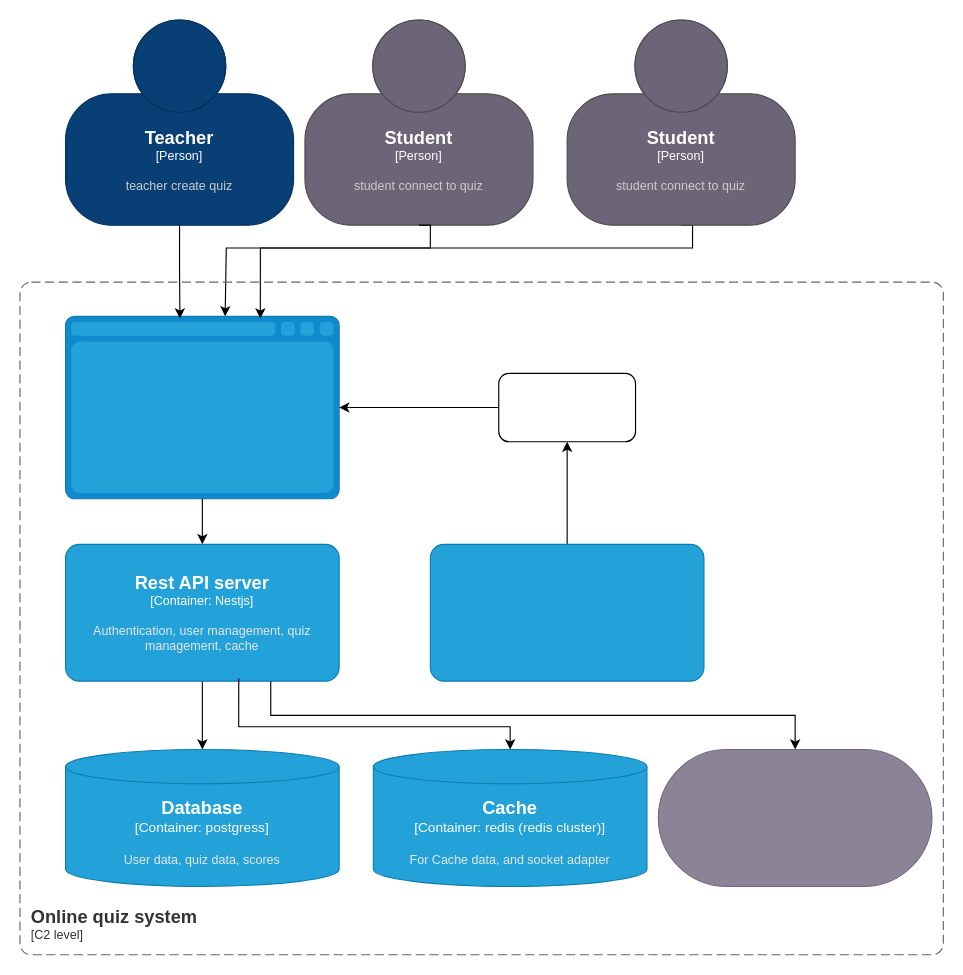
The diagram is 963 pixels wide and 975 high, and some of its shapes have lost their labels. The centre of each missing label's shape, as x and y in pixels:
"client [Container: vuejs] FE show on webbrowser" goes at point (201, 407).
"External system [Software System] External system for file store" goes at point (794, 817).
"websocket" goes at point (567, 407).
"websocket server [Container: Nestjs] websocket event management" goes at point (566, 612).
